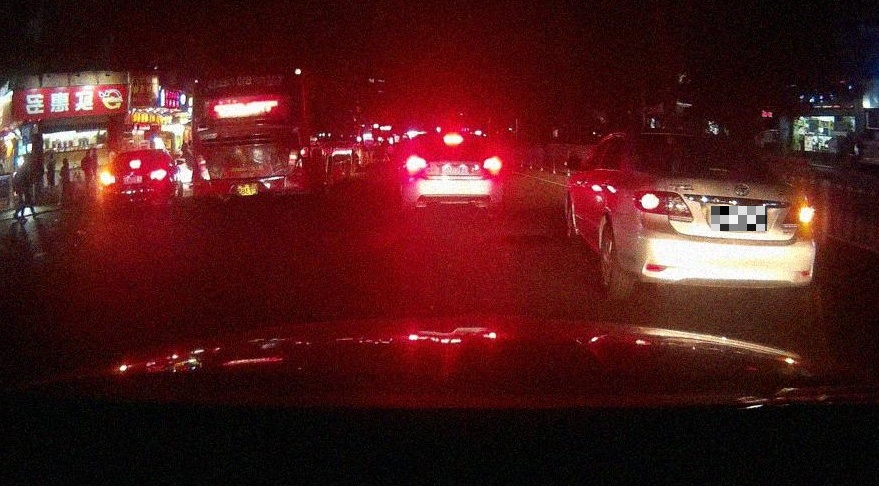L_light: (634, 190, 693, 222), (194, 151, 210, 181), (405, 158, 428, 170), (101, 175, 116, 185)
R_light: (783, 203, 815, 224), (289, 141, 303, 175), (483, 158, 502, 169), (150, 169, 167, 179)
T_light: (689, 135, 720, 142), (233, 110, 258, 116), (443, 136, 463, 142), (130, 160, 141, 165)
night-brake: (397, 129, 502, 211)
night-left: (99, 147, 171, 212)
night-no: (192, 64, 311, 212)
night-right: (620, 129, 816, 303)
plate_1: (711, 206, 767, 231)
